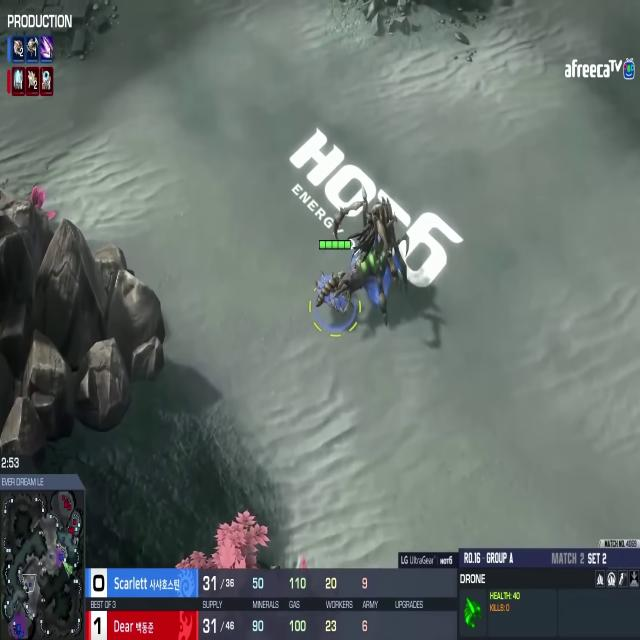drone: (310, 259, 354, 324)
queen: (330, 175, 416, 328)
